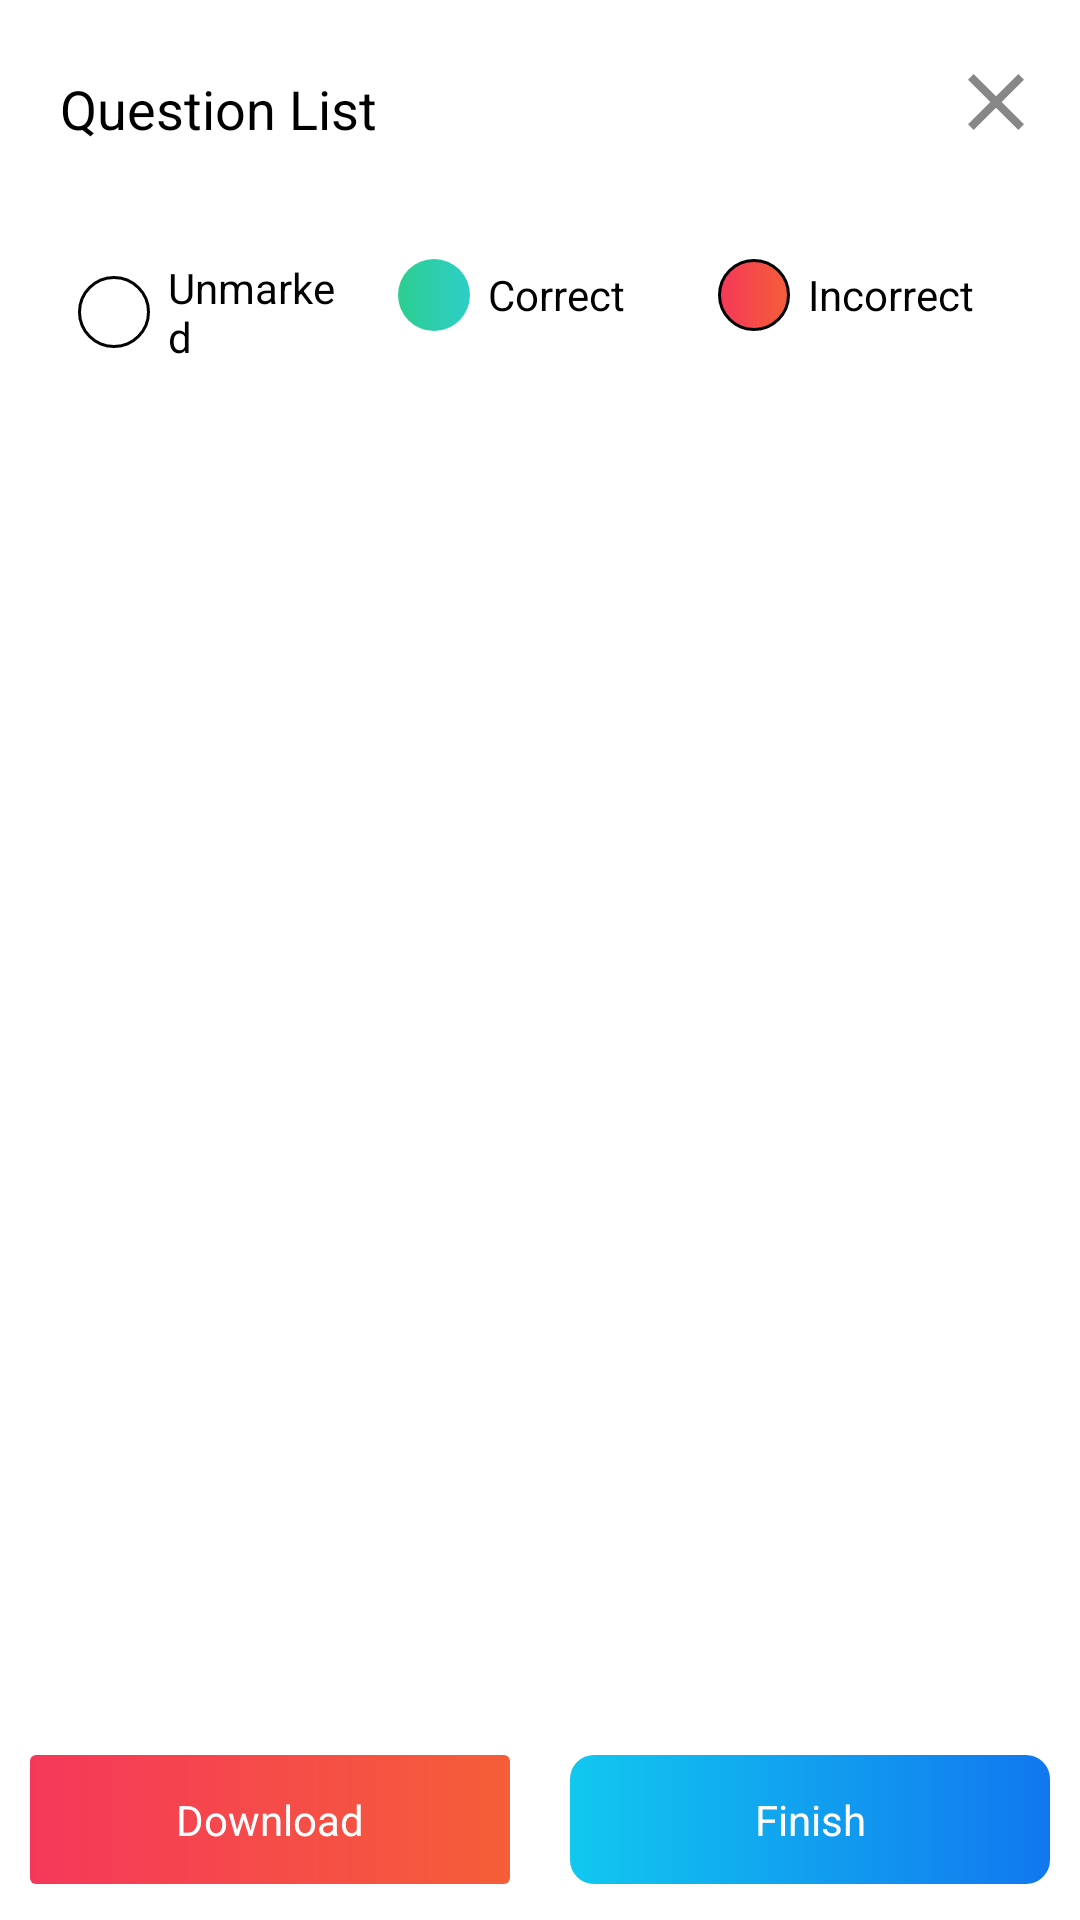

Screen size 1080×1920. Icon name, then its box in pixels as (x1, y1, x2, y2):
close: (968, 74, 1024, 130)
